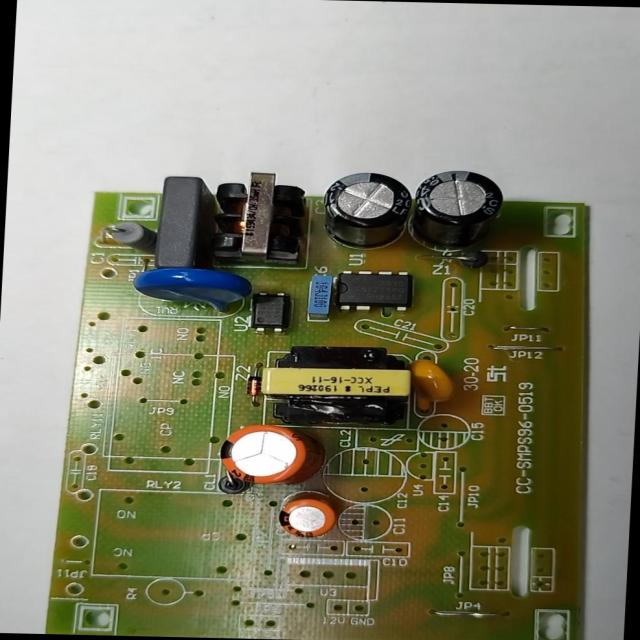Cap1: (217, 424, 326, 488)
Cap2: (276, 497, 338, 539)
Cap3: (319, 170, 414, 252)
Cap4: (414, 167, 510, 255)
MOSFET: (334, 268, 416, 313)
Mov: (129, 265, 254, 316)
Resistor: (106, 219, 156, 254)
Transformer: (267, 346, 418, 425), (209, 168, 309, 260)
